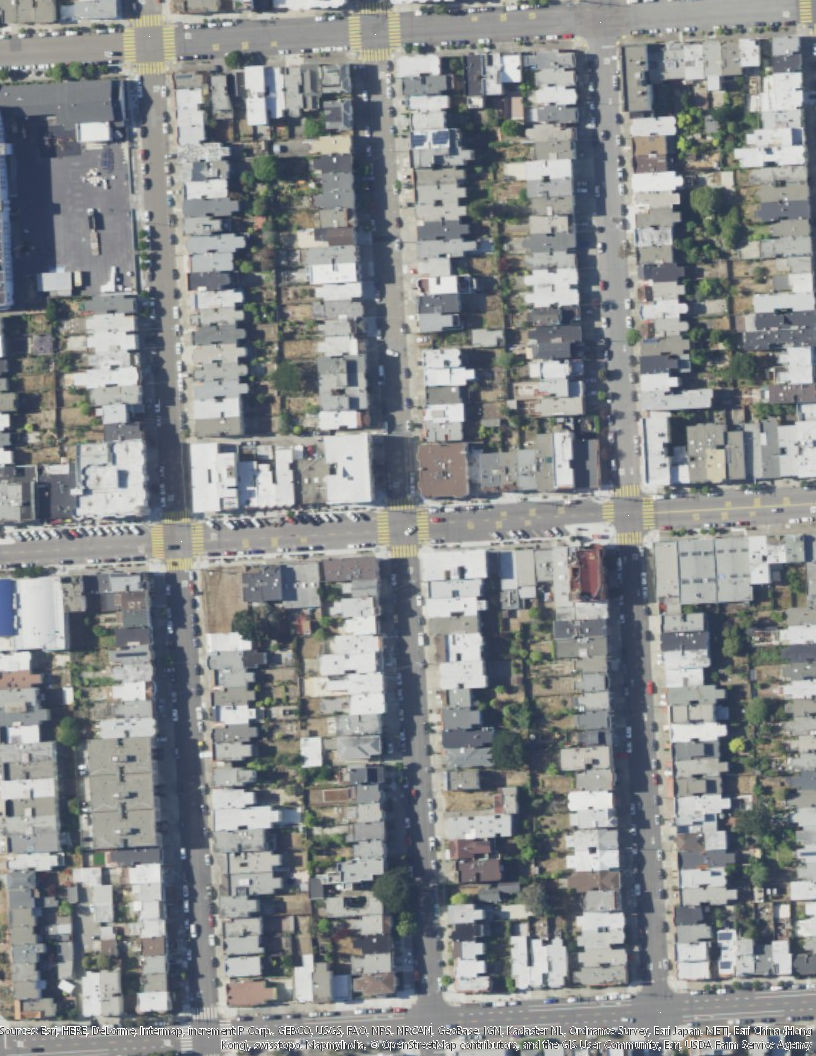zebracross: (162, 25, 178, 62), (387, 12, 402, 49), (347, 14, 362, 50), (150, 523, 165, 559), (375, 511, 390, 546), (190, 525, 205, 558), (137, 61, 167, 77), (415, 510, 429, 543), (641, 499, 656, 529), (123, 28, 136, 62), (164, 509, 190, 526), (612, 483, 641, 498), (618, 530, 645, 546), (132, 15, 165, 28), (388, 498, 418, 512), (354, 2, 388, 14), (362, 49, 389, 63), (168, 559, 193, 573), (797, 1, 813, 22), (191, 1007, 219, 1018), (390, 546, 418, 556), (603, 502, 616, 521)
